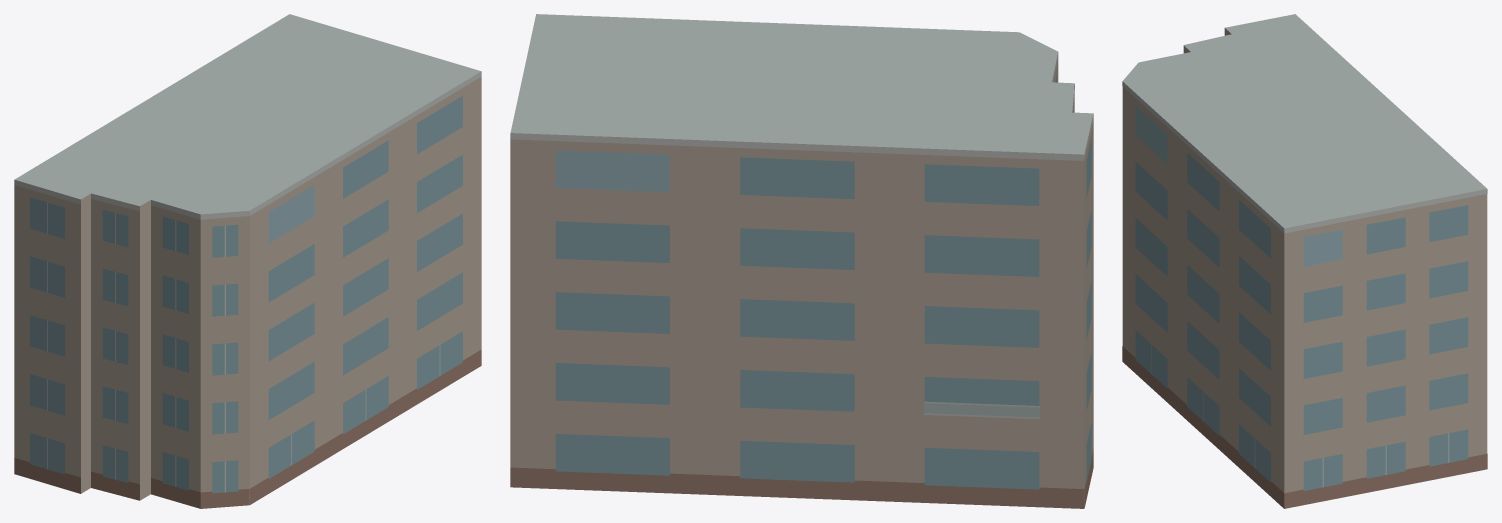
The model's file is survey-upis-32750420.glb.
3 renders of one model, left to right at view 1: azimuth 30°, elevation 25°; view 2: azimuth 150°, elevation 25°; view 3: azimuth 270°, elevation 25°, orthographic. The views are drawn at different scales.
Visible parts, largest first — view 1: survey-upis-32750420.tmp; view 2: survey-upis-32750420.tmp; view 3: survey-upis-32750420.tmp.
Part boxes in pixels (x1,y1,x2,y2): survey-upis-32750420.tmp: (14,14,481,508); survey-upis-32750420.tmp: (510,14,1093,508); survey-upis-32750420.tmp: (1122,14,1487,508).
Bounding box in the file's own units: 22.4 × 13.65 × 16.11.
